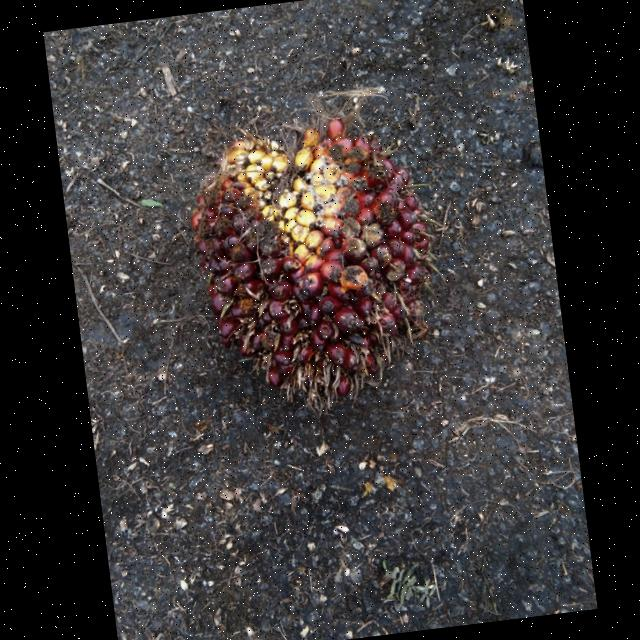Ripe: (189, 115, 435, 400)
